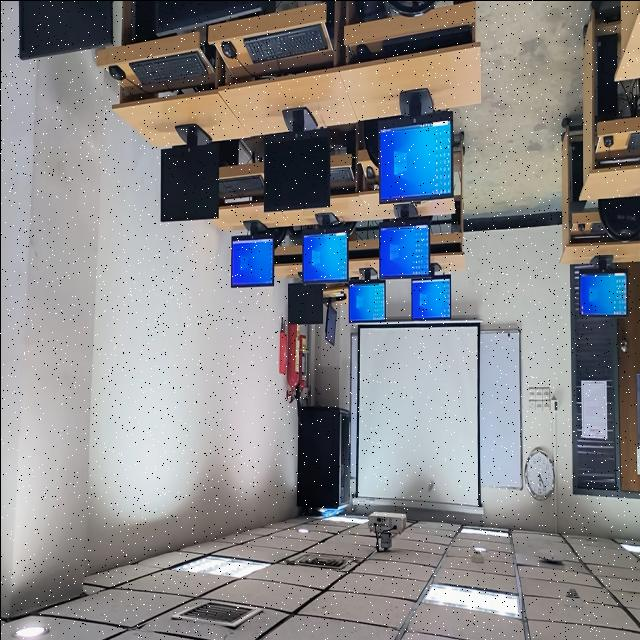Chair: (597, 196, 640, 240), (358, 119, 378, 166)
Cpu: (596, 34, 619, 119), (570, 140, 585, 210)
Fire Extinguisher: (286, 323, 302, 397), (298, 334, 306, 392)
Keyboard: (243, 23, 327, 62), (129, 50, 207, 83), (218, 175, 263, 197), (627, 132, 640, 152)
Light: (424, 583, 520, 617), (174, 554, 269, 577), (460, 526, 507, 536), (322, 514, 366, 524), (16, 626, 44, 637), (619, 542, 640, 553), (297, 528, 308, 532)
Monitor: (378, 89, 452, 203), (263, 107, 329, 210), (160, 123, 220, 221), (18, 0, 114, 59), (155, 0, 273, 35), (378, 202, 430, 277), (302, 212, 355, 282), (579, 255, 626, 316), (231, 219, 273, 287), (411, 262, 450, 319), (348, 268, 384, 322), (287, 282, 322, 324), (324, 301, 336, 345)
Mouse: (107, 65, 124, 80), (221, 41, 235, 58), (603, 135, 613, 147), (366, 167, 375, 179)
Projector: (367, 511, 406, 549)
